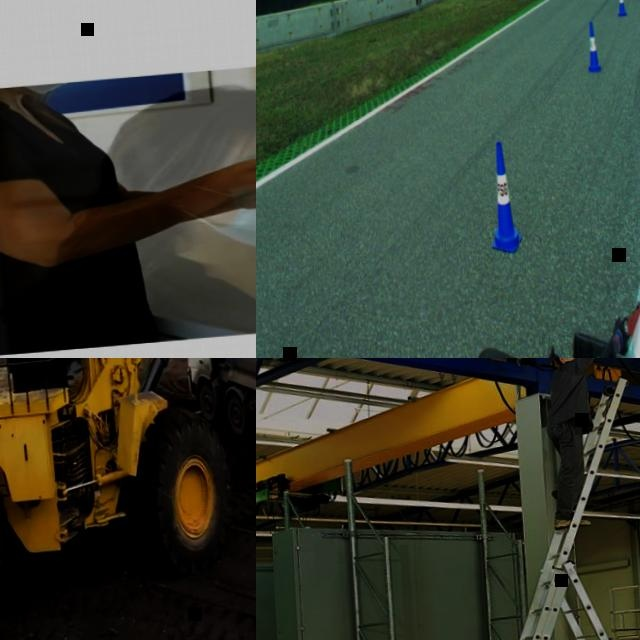Mask: (201, 177, 256, 258), (25, 80, 69, 97)
NO-Hardhat: (128, 82, 256, 155)
NO-Safety Vest: (0, 83, 149, 355), (96, 238, 256, 344), (544, 361, 590, 428)
Person: (29, 77, 256, 347), (0, 75, 156, 358), (534, 358, 636, 530)
Safety Cone: (483, 141, 522, 255), (584, 22, 601, 74), (615, 0, 625, 17)
machinery: (0, 358, 256, 640)
vehicle: (460, 215, 640, 358)
